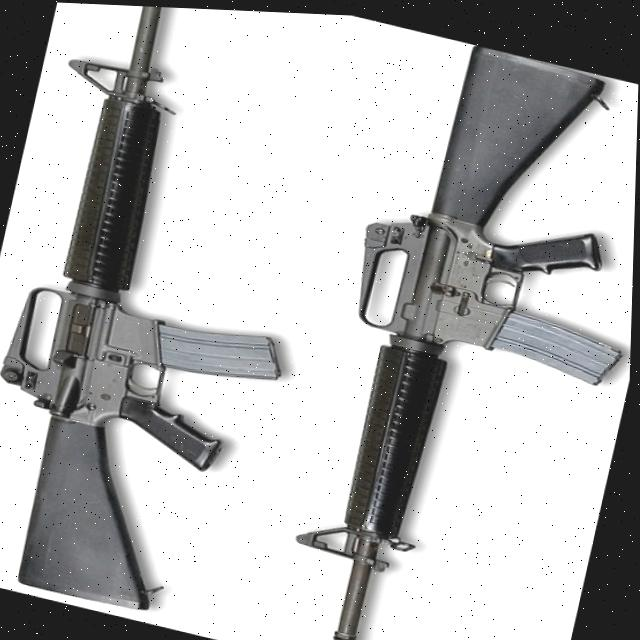firearm: (271, 21, 640, 640), (0, 0, 359, 635)
